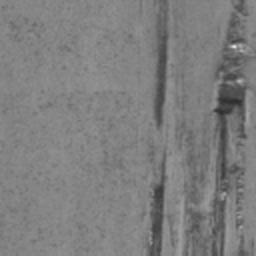Slag inclusion: (174, 0, 256, 256), (146, 145, 168, 253), (154, 0, 172, 129)
